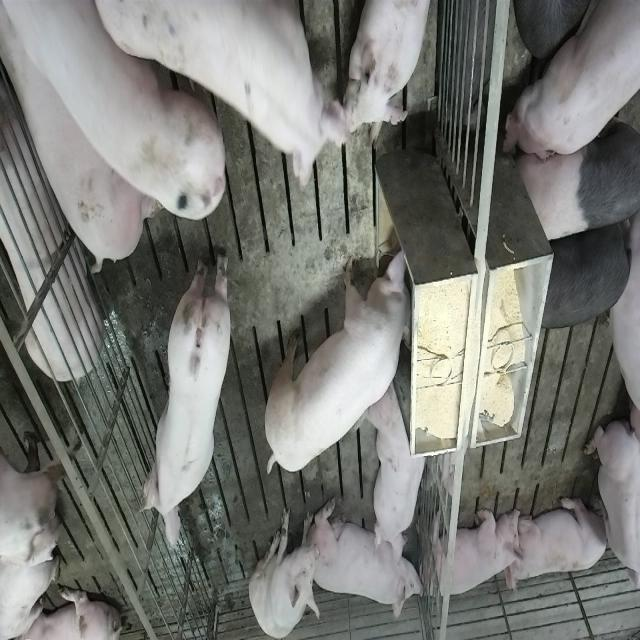Feeding: (269, 244, 422, 476)
Lateral_lying: (0, 55, 103, 383)
Sitting: (248, 503, 320, 638)
Standing: (4, 0, 236, 261), (94, 2, 364, 192), (138, 243, 234, 548), (501, 0, 638, 166), (512, 109, 638, 244), (536, 212, 636, 334)
Sternal_lying: (316, 502, 424, 627), (346, 0, 434, 147), (369, 383, 431, 560), (584, 414, 638, 604), (424, 502, 524, 604), (510, 491, 610, 588)
